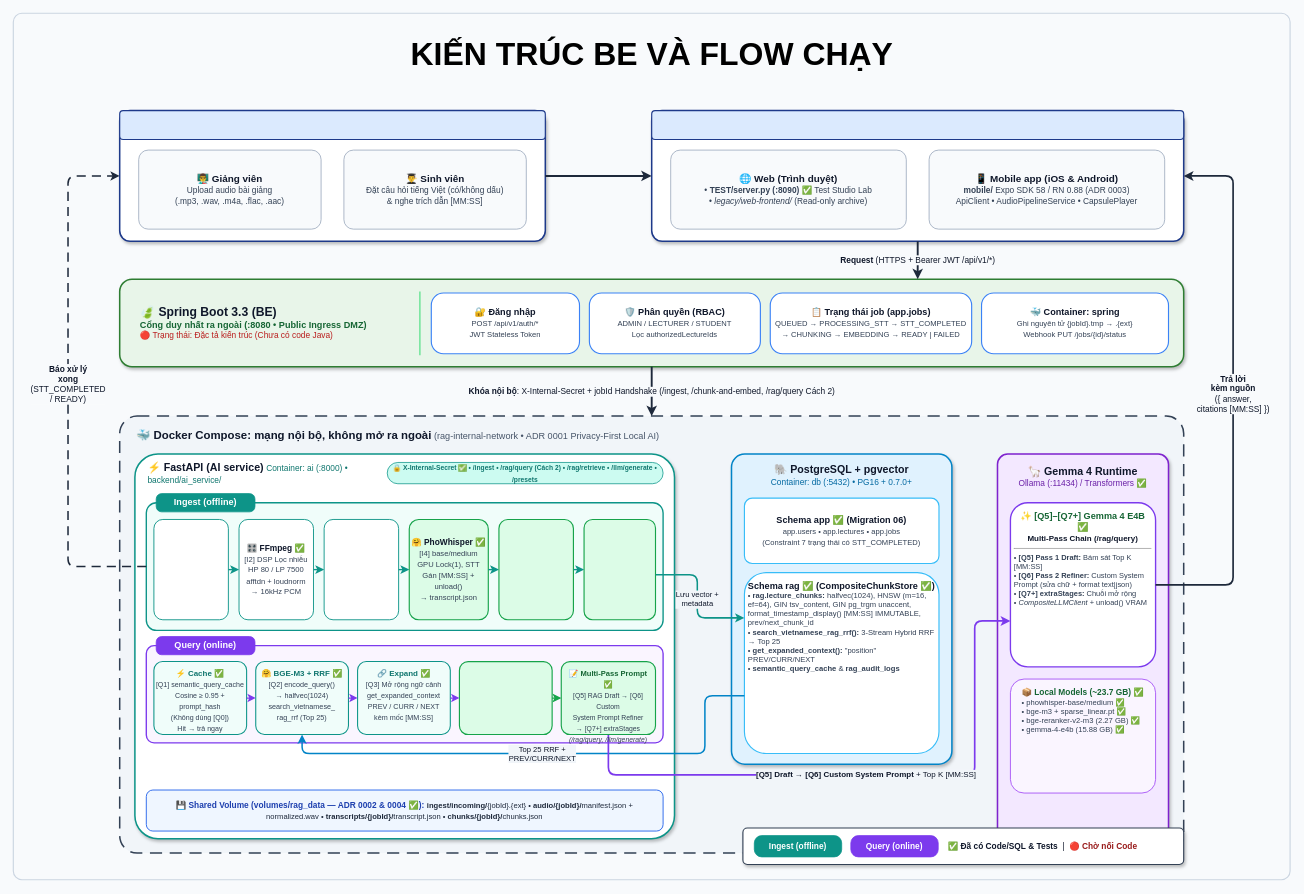
Image size: 1304x894. Some labels were removed from this diagram. Here are the shapes that lost their labels. From the top down, the centre of each, then its label:
At point (332, 125): "Người dùng".
At point (917, 125): "Ứng dụng client".
At point (190, 569): "📁 AudioStore ✅ [I1] SHA-256 manifest.json O(1) Chống Traversal".
At point (361, 569): "✂️ VAD Slice ✅ [I3] EnergyVad RMS 50ms (-38dB) Cắt khoảng nghỉ 10s – 28s".
At point (536, 569): "📄 Chunking ✅ [I5] Recursive ≤ 512 tokens 64 overlap prev/next_id".
At point (619, 569): "🤗 BGE-M3 ✅ [I6] Embedding halfvec(1024) lexical_weights JSONB".
At point (505, 698): "⚖️ Reranker ✅ [Q4] BgeRerankerV2M3 Lọc Top K + unload() VRAM (/rag/retrieve)".
